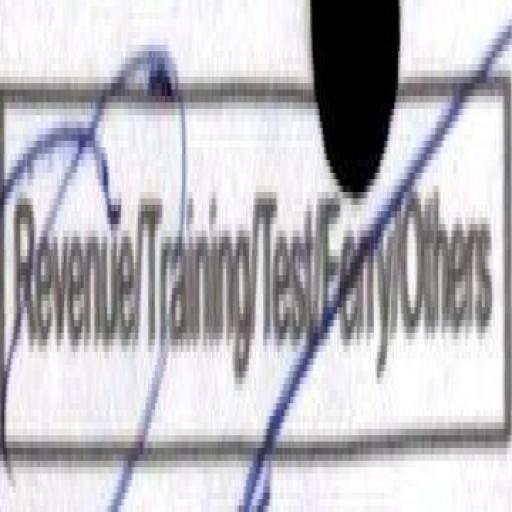check: (0, 45, 134, 512)
